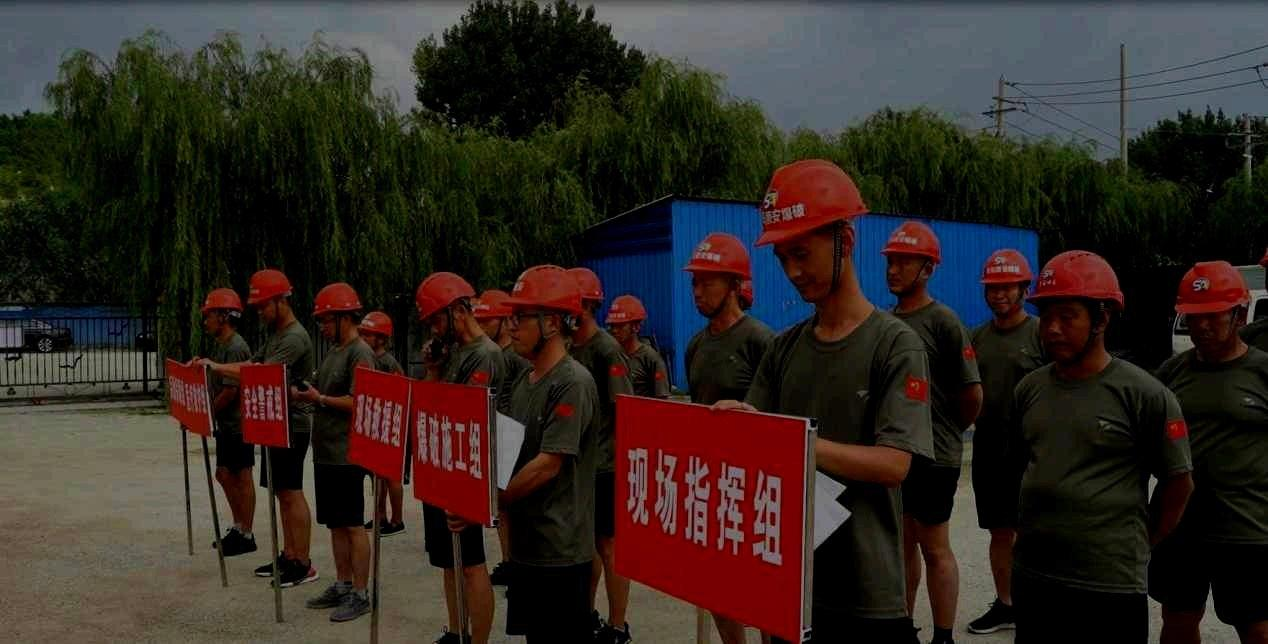helmet: (752, 158, 870, 304), (1023, 249, 1123, 363), (499, 263, 584, 359), (1174, 260, 1251, 350), (679, 230, 749, 318), (413, 272, 477, 344), (878, 219, 942, 291), (976, 247, 1034, 315), (312, 282, 363, 340), (247, 268, 293, 325), (472, 289, 514, 344), (566, 267, 604, 325), (199, 287, 244, 335), (603, 294, 648, 342), (358, 311, 394, 351)
